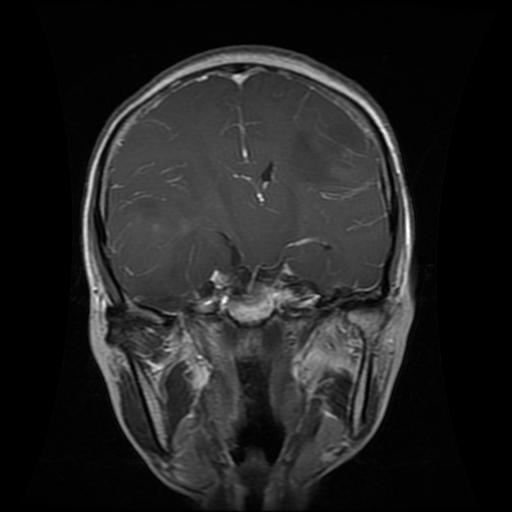Gliomia_tumour: (290, 130, 342, 183)
